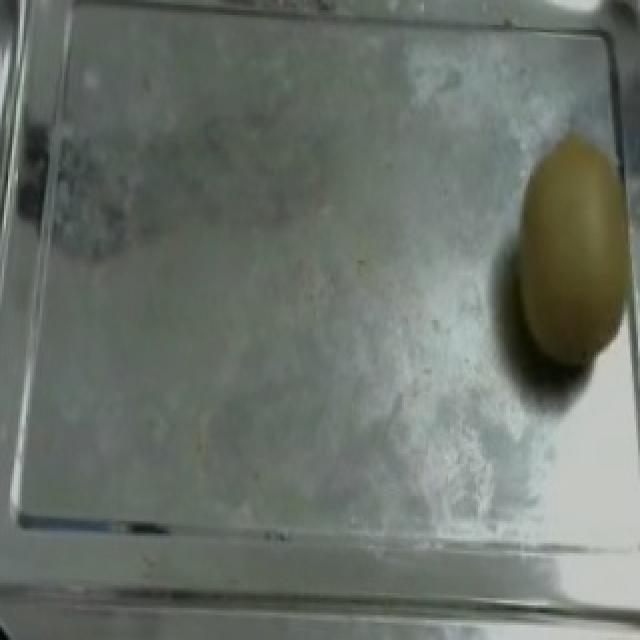Fruit: (492, 122, 640, 394)
